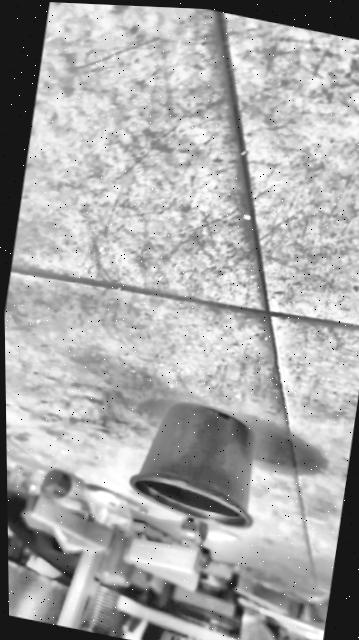pot: (123, 394, 268, 532)
